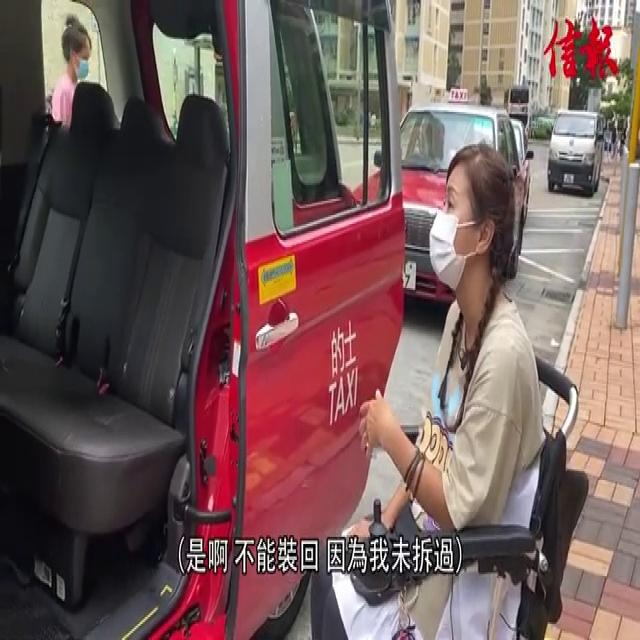wheelchairs: (337, 318, 597, 638)
